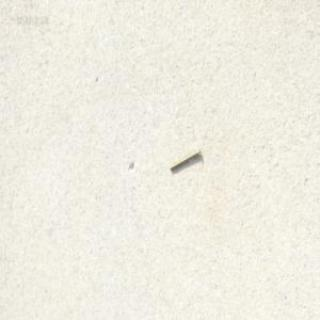Bolttrack_idkeyframe: (168, 145, 200, 170)
